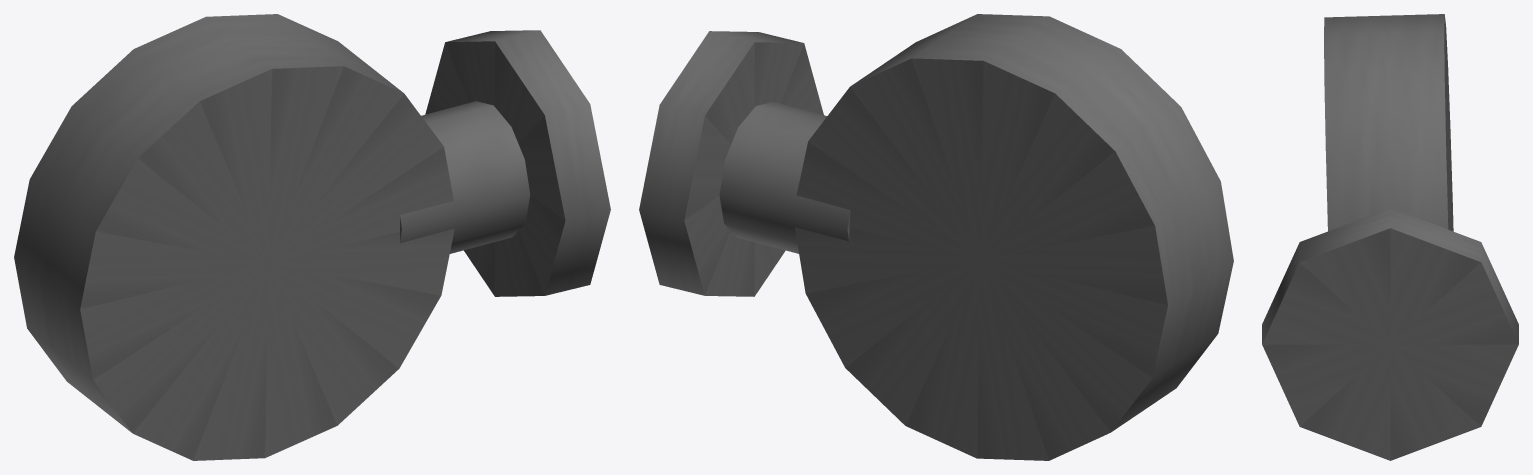
Rendered from mastarmcurve_8x2_c9_east.obj.
The picture shows the model from 3 angles, left to right: view 1: azimuth 30°, elevation 25°; view 2: azimuth 150°, elevation 25°; view 3: azimuth 270°, elevation 25°; orthographic projection. The views are drawn at different scales.
Visible parts, largest first — view 1: mastarm_8x2_c9_east; view 2: mastarm_8x2_c9_east; view 3: mastarm_8x2_c9_east.
Part boxes in pixels (x1,y1,x2,y2): mastarm_8x2_c9_east: [14, 14, 610, 460]; mastarm_8x2_c9_east: [639, 14, 1233, 460]; mastarm_8x2_c9_east: [1262, 14, 1518, 460].
Size of the model in its own units: 0.808 by 0.6227 by 0.4.
